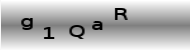1: (41, 25, 55, 40)
Q: (67, 24, 86, 40)
R: (113, 7, 128, 21)
a: (90, 19, 103, 31)
g: (19, 16, 33, 31)
